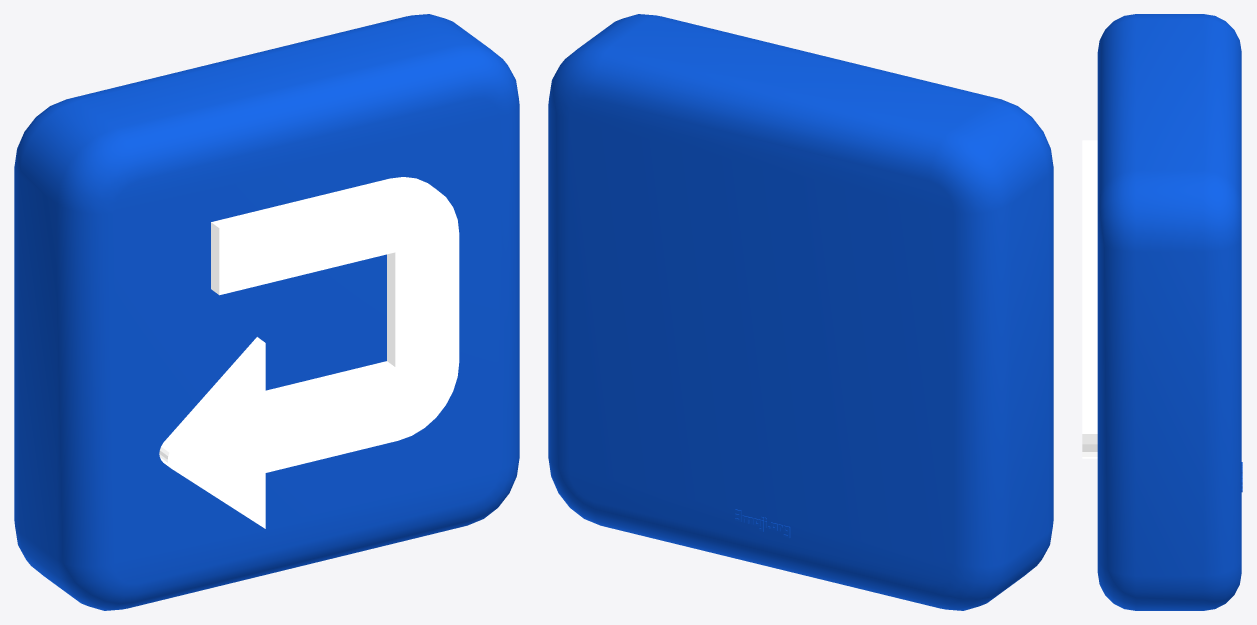
The model's file is right_arrow_curving_left.gltf.
3 renders of one model, left to right at view 1: azimuth 30°, elevation 25°; view 2: azimuth 150°, elevation 25°; view 3: azimuth 270°, elevation 25°, orthographic. The views are drawn at different scales.
Visible parts, largest first — view 1: Cube.6333; view 2: Cube.6333; view 3: Cube.6333.
Part boxes in pixels (x1,y1,x2,y2): Cube.6333: (14, 14, 519, 610); Cube.6333: (548, 14, 1053, 610); Cube.6333: (1082, 14, 1242, 610).
Size of the model in its own units: 2.2 by 2.2 by 0.7337.
1 material, 1 textured.
